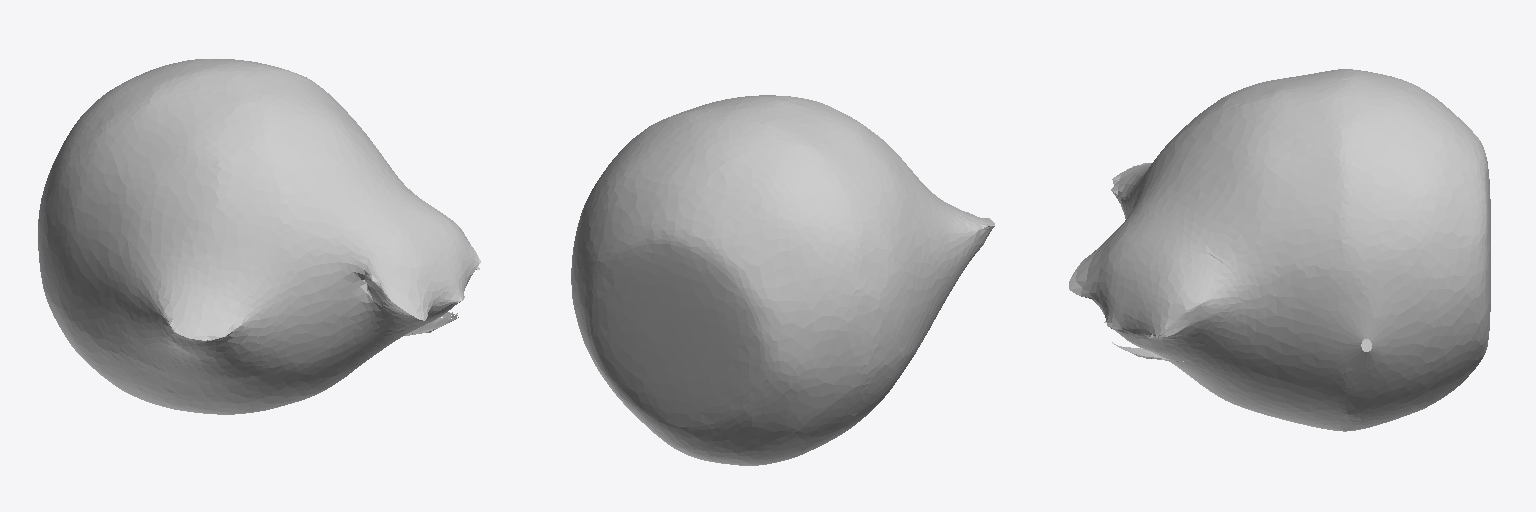
File: kitty_fix_smooth.obj
3 views of the same model, side by side, from view 1: azimuth 30°, elevation 25°; view 2: azimuth 150°, elevation 25°; view 3: azimuth 270°, elevation 25° (orthographic).
Size of the model in its own units: 0.6722 by 0.6438 by 0.7492.